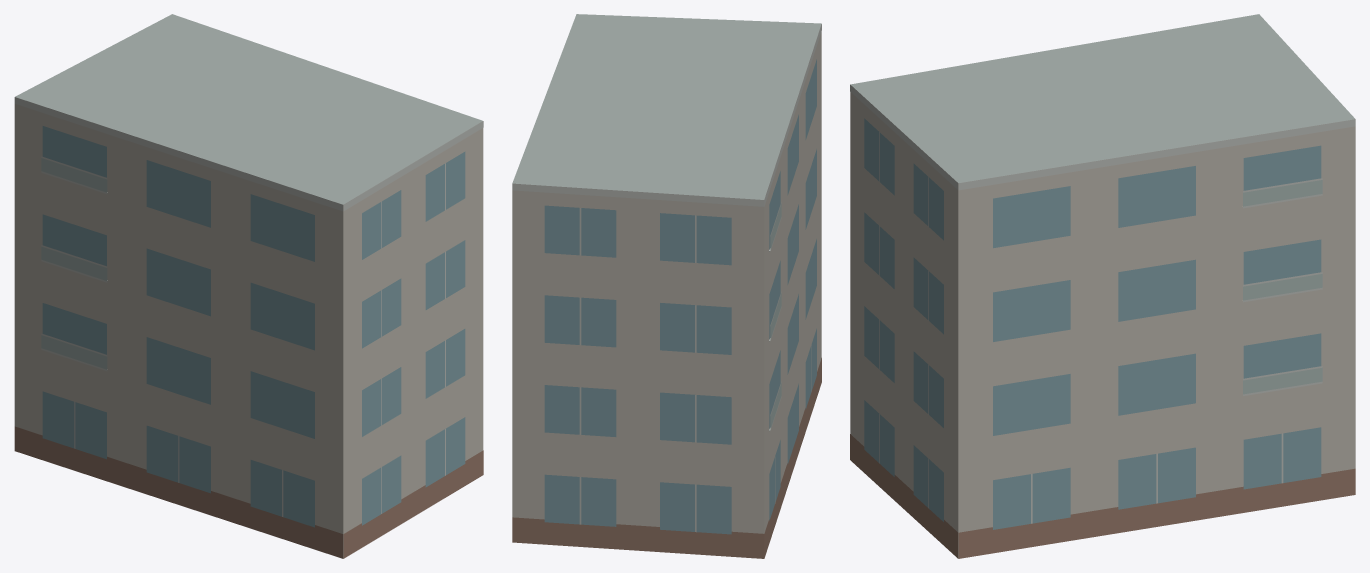
Rendered from survey-upis-32754077.glb.
The picture shows the model from 3 angles, left to right: view 1: azimuth 30°, elevation 25°; view 2: azimuth 150°, elevation 25°; view 3: azimuth 270°, elevation 25°; orthographic projection. The views are drawn at different scales.
Visible parts, largest first — view 1: survey-upis-32754077.tmp; view 2: survey-upis-32754077.tmp; view 3: survey-upis-32754077.tmp.
Part boxes in pixels (x1,y1,x2,y2): survey-upis-32754077.tmp: (14,14,483,558); survey-upis-32754077.tmp: (512,14,821,558); survey-upis-32754077.tmp: (850,14,1355,558).
Size of the model in its own units: 12.38 by 12.8 by 15.62.
